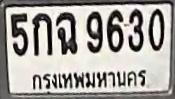0: (148, 8, 165, 52)
3: (127, 8, 144, 52)
5: (10, 12, 28, 57)
6: (106, 9, 125, 53)
9: (86, 10, 103, 54)
A01: (31, 12, 54, 56)
A09: (55, 11, 78, 55)
BKK: (27, 64, 149, 94)
